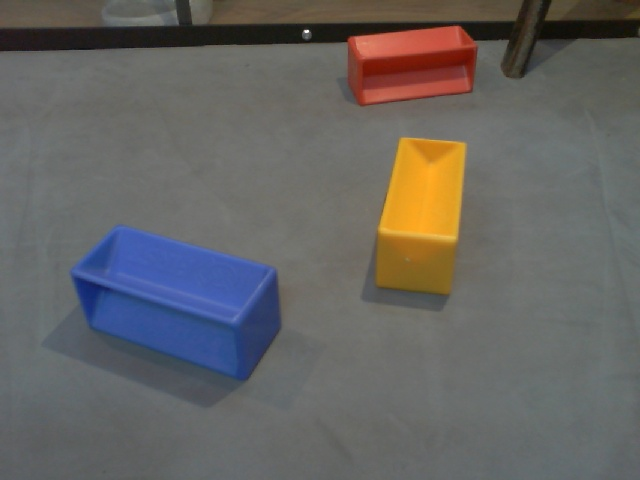BlueSample: (63, 221, 285, 386)
RedSample: (340, 25, 482, 106)
YellowSample: (372, 132, 463, 299)
